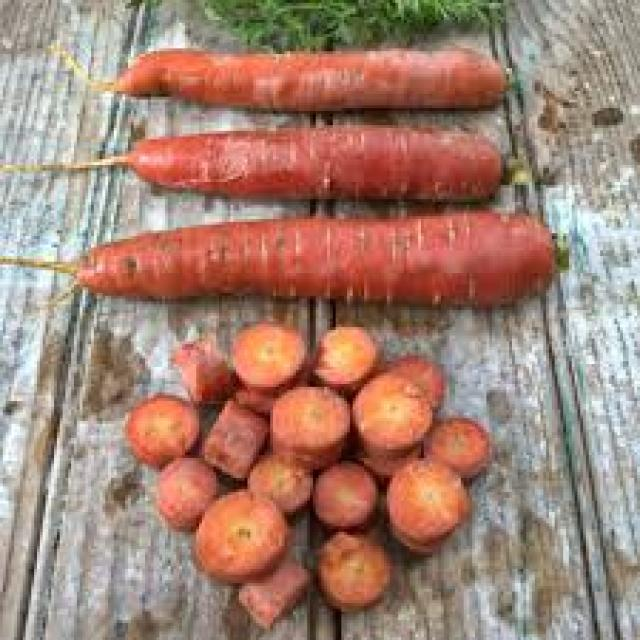Stale_Carrot: (76, 210, 554, 306), (128, 125, 501, 201)
